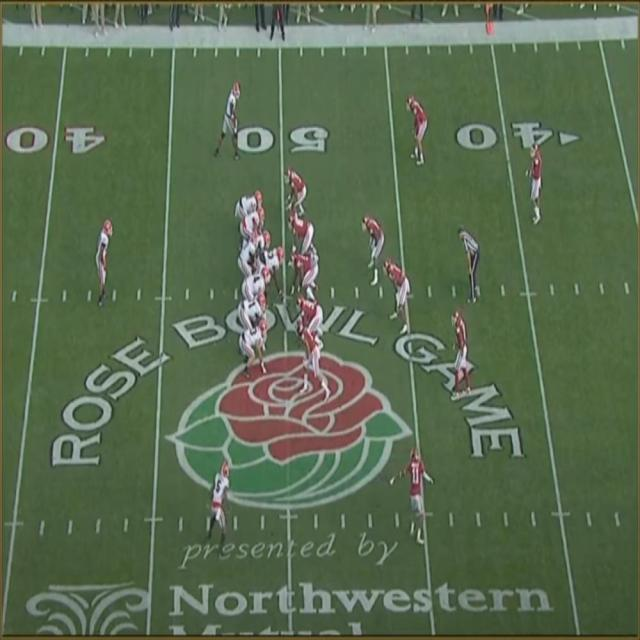center: (269, 247, 285, 297)
db: (451, 310, 472, 396), (408, 447, 426, 541), (406, 96, 427, 162), (531, 142, 540, 224)
lb: (385, 255, 408, 329), (364, 213, 382, 280)
qb: (237, 232, 257, 277)
skill: (297, 323, 323, 395), (210, 462, 228, 550), (239, 323, 271, 372), (95, 218, 112, 302), (222, 82, 240, 155), (283, 169, 306, 207), (236, 189, 263, 212)
